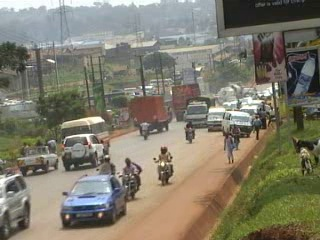Car: (58, 172, 130, 228), (0, 168, 36, 238), (57, 132, 109, 174)
Motorcycle: (152, 144, 178, 187), (118, 158, 143, 198), (94, 154, 116, 176), (180, 119, 197, 144), (137, 118, 153, 144)
